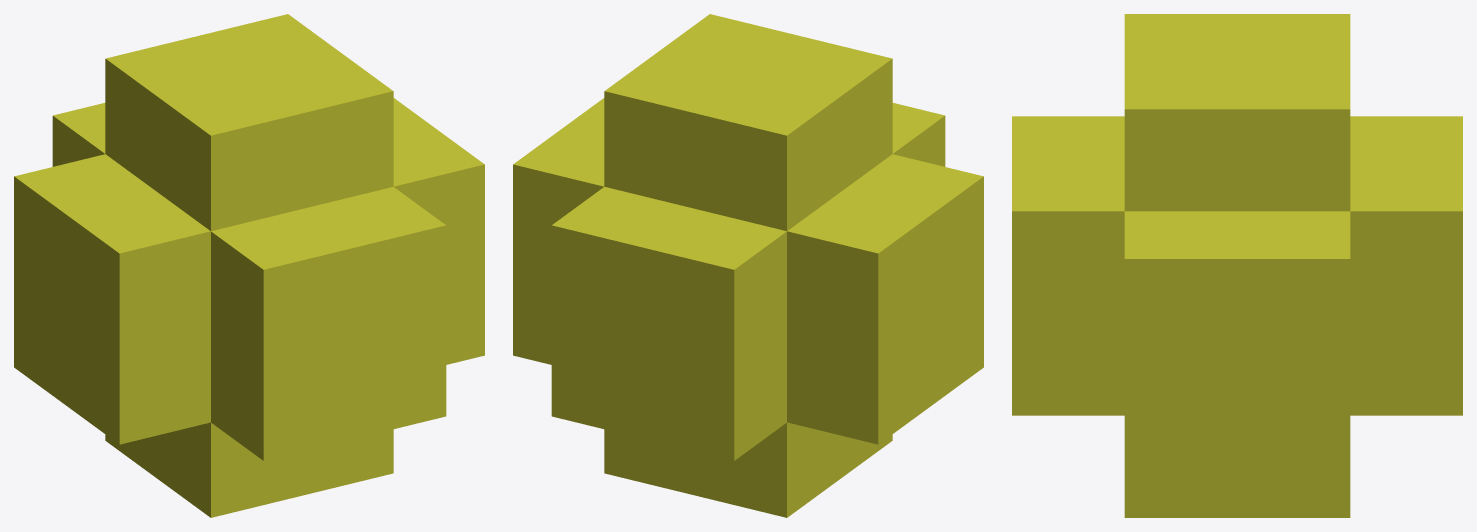
Rendered from plant_bean_ball.obj.
3 renders of one model, left to right at view 1: azimuth 30°, elevation 25°; view 2: azimuth 150°, elevation 25°; view 3: azimuth 270°, elevation 25°, orthographic. The views are drawn at different scales.
Size of the model in its own units: 0.4 by 0.4 by 0.4.
Materials: 1 (1 with a texture image).
